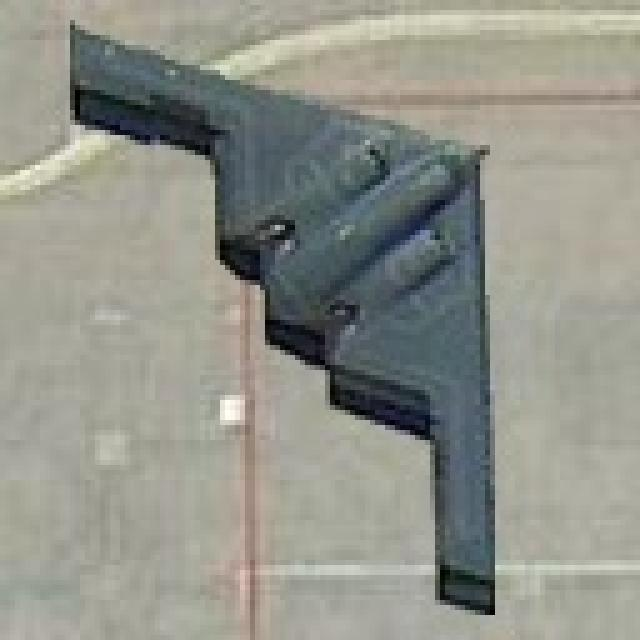B-2_TopDown: (57, 22, 499, 614)
